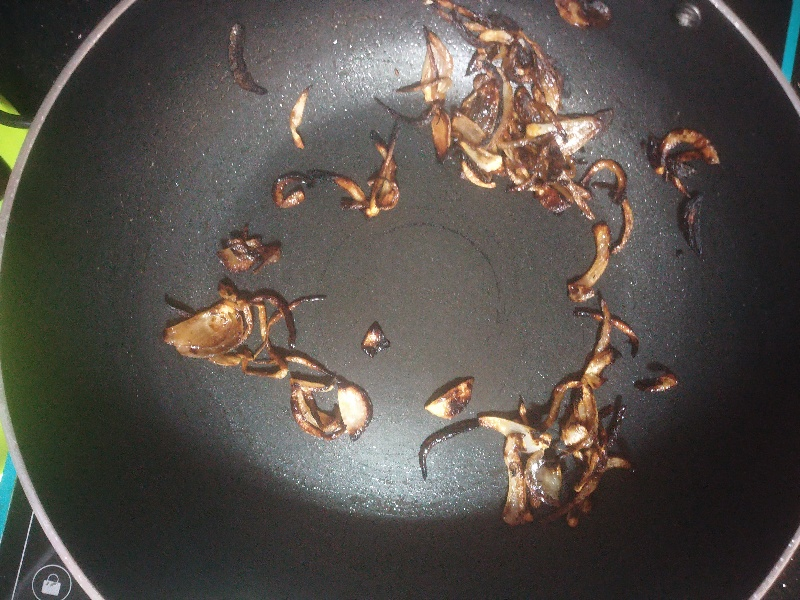onion_burnt: (417, 14, 629, 209), (177, 266, 380, 460), (429, 350, 642, 523), (262, 149, 414, 232)
